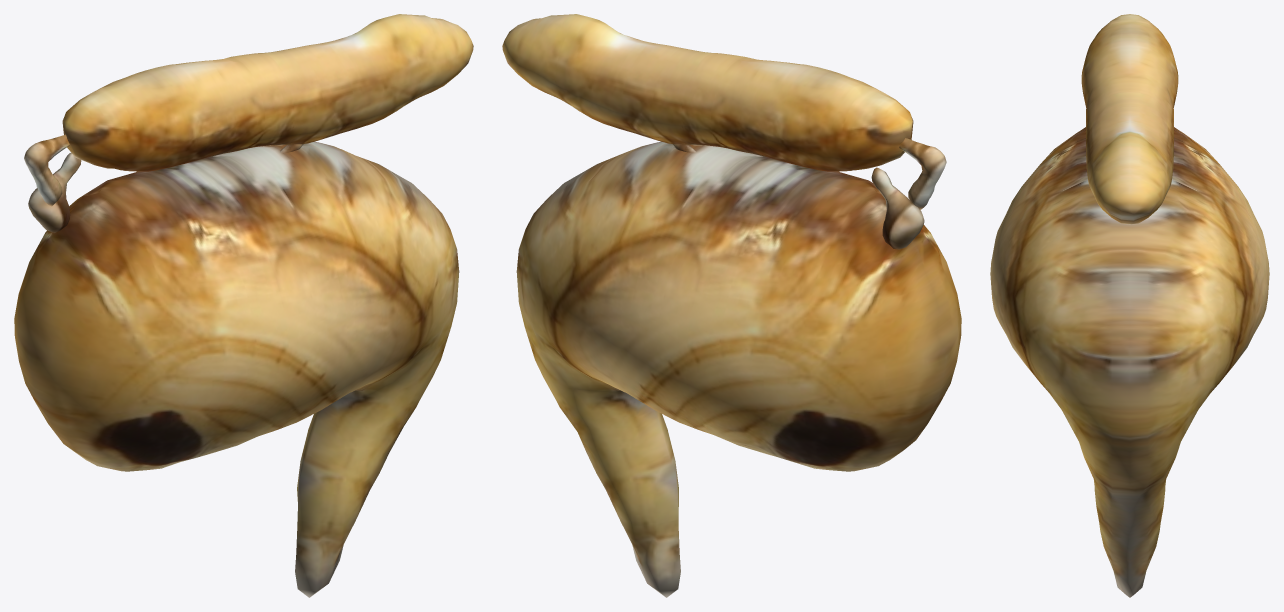
Rendered from Pupa.FBX.
The picture shows the model from 3 angles, left to right: view 1: azimuth 30°, elevation 25°; view 2: azimuth 150°, elevation 25°; view 3: azimuth 270°, elevation 25°; orthographic projection. The views are drawn at different scales.
Parts seen in each view (by area): view 1: model_507822642883; view 2: model_507822642883; view 3: model_507822642883.
Part boxes in pixels (x1,y1,x2,y2): model_507822642883: (14,14,473,597); model_507822642883: (502,14,961,597); model_507822642883: (990,14,1269,597).
Bounding box in the file's own units: 3.25 × 3.95 × 2.01.
1 material, 1 textured.
